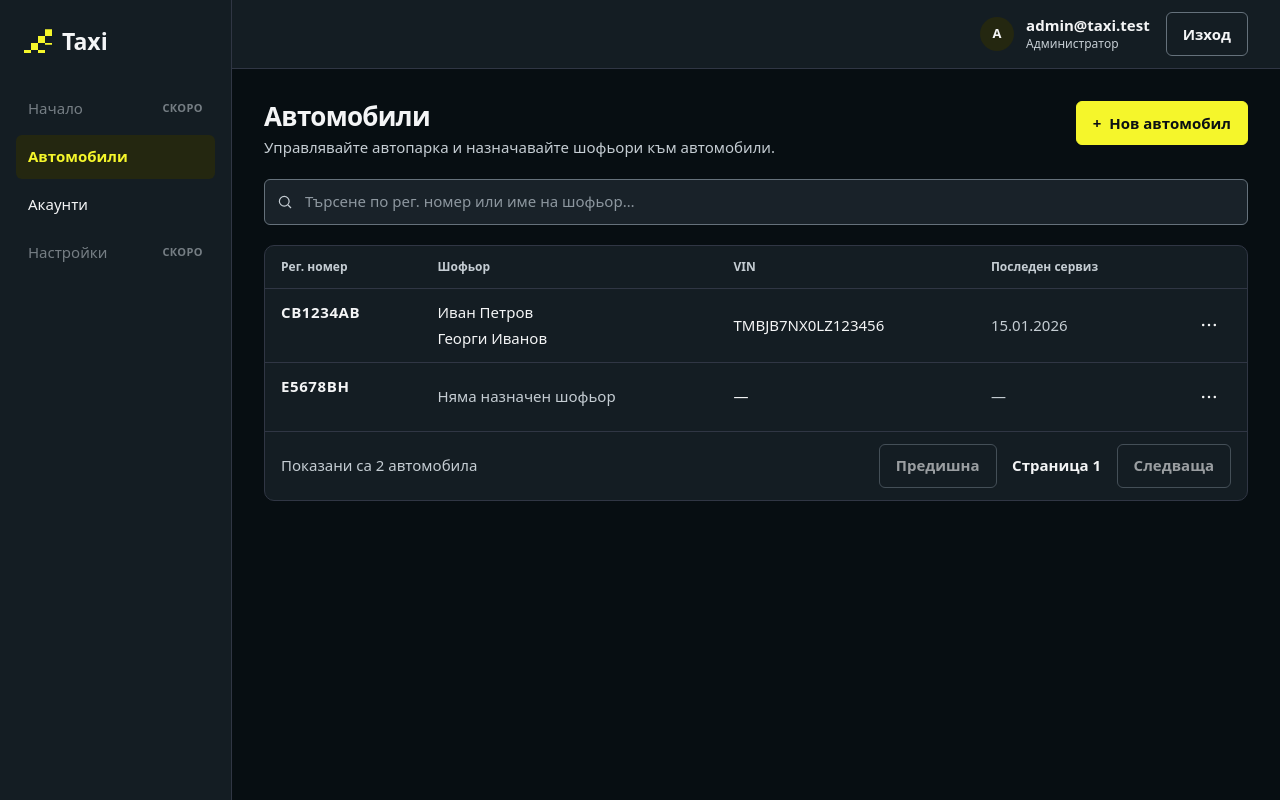
Test: CarsPage (mocked car port, not live integration) › validates the plate before sending and then creates the car
Expected: the column heading "CB1234AB" is shown, [265, 289, 422, 335]
Click the button "+ Нов автомобил": point(1162, 123) [1076, 101, 1248, 145]
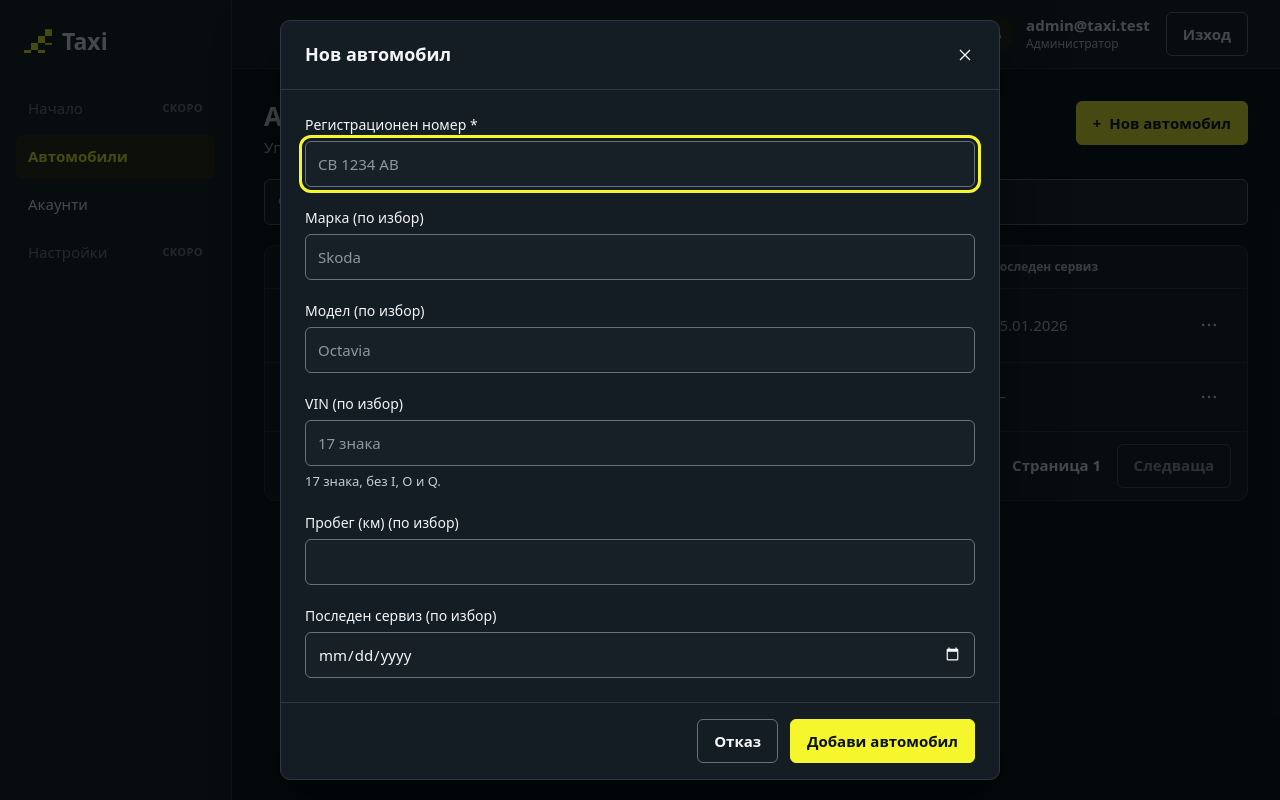
Click the button "Добави автомобил": point(882, 741) [790, 719, 975, 763]
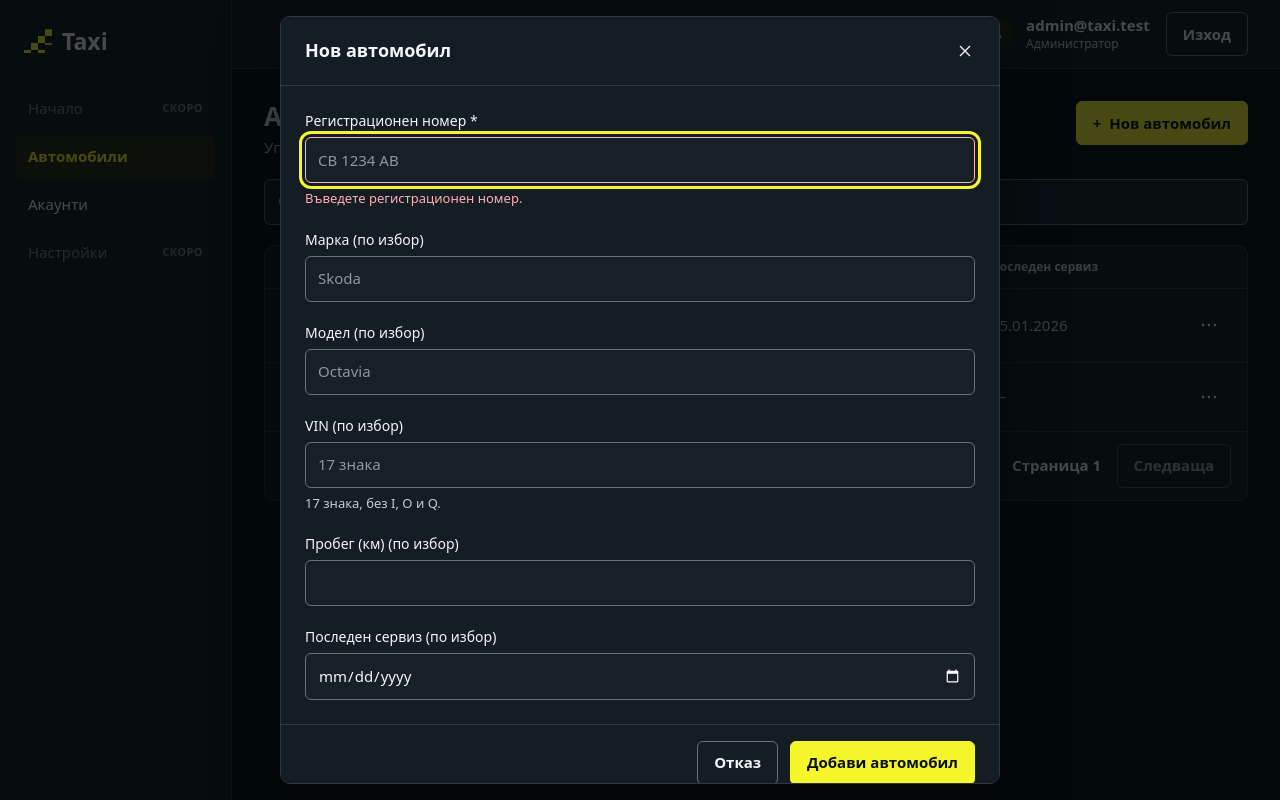
Expected: the text "Въведете регистрационен номер." is shown, [305, 189, 522, 207]
In the field labelled "Регистрационен номер *": point(640, 160) [305, 137, 975, 183], type "PB 0001 AA"
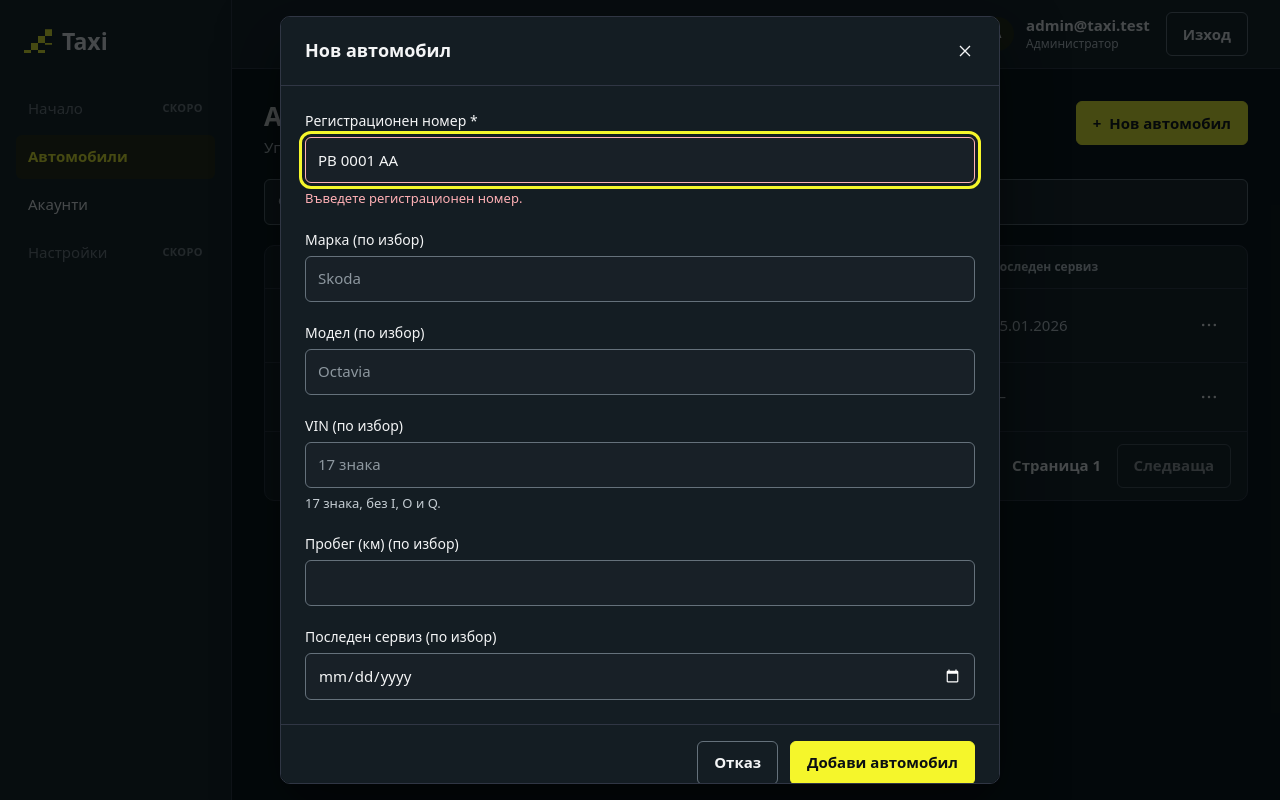
Click the button "Добави автомобил": point(882, 762) [790, 740, 975, 784]
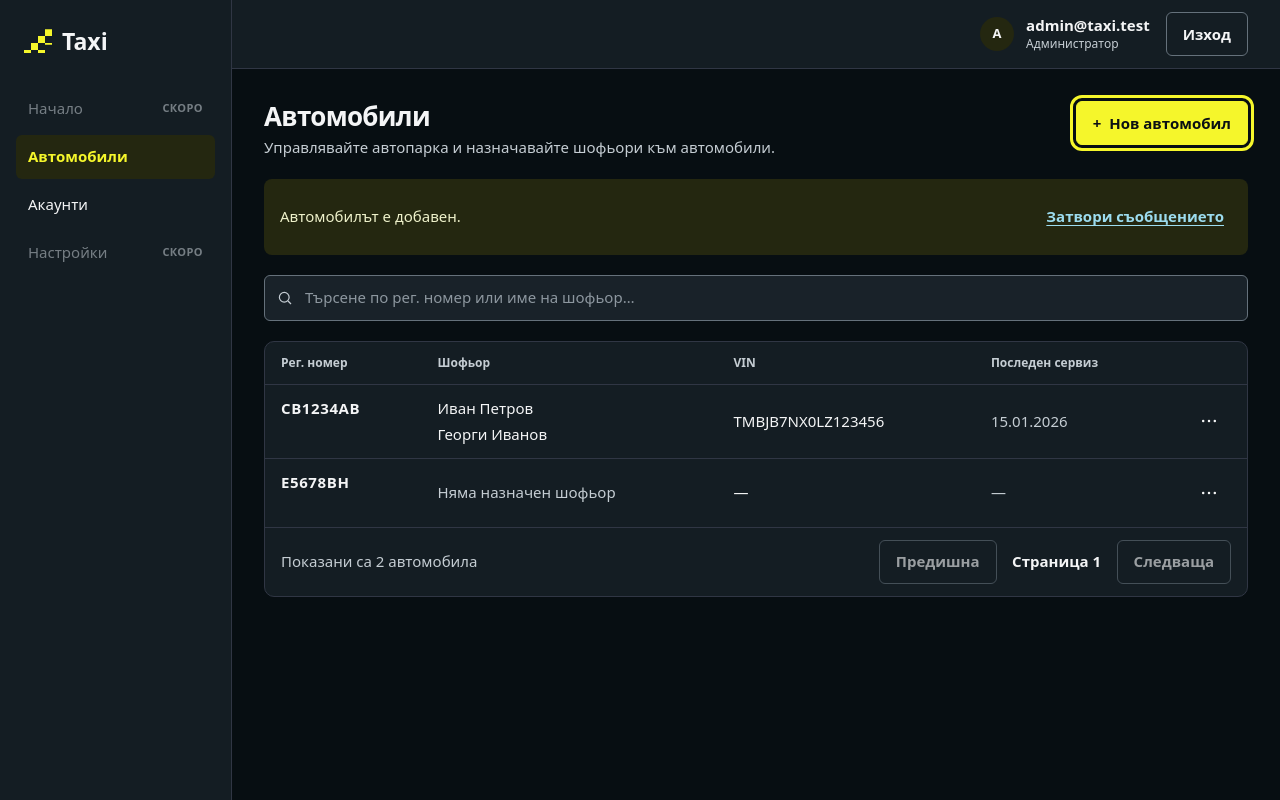
Expected: the text "Автомобилът е добавен." is shown, [280, 205, 461, 228]
